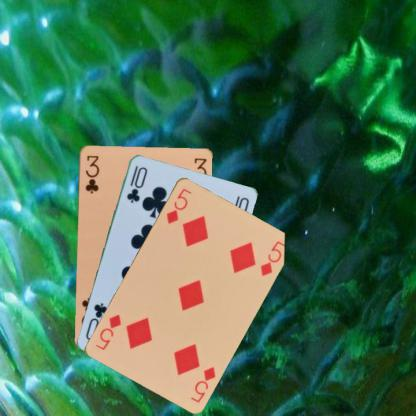10c: (124, 162, 148, 204)
3c: (83, 152, 100, 194)
5d: (163, 185, 193, 225), (188, 363, 216, 404)
